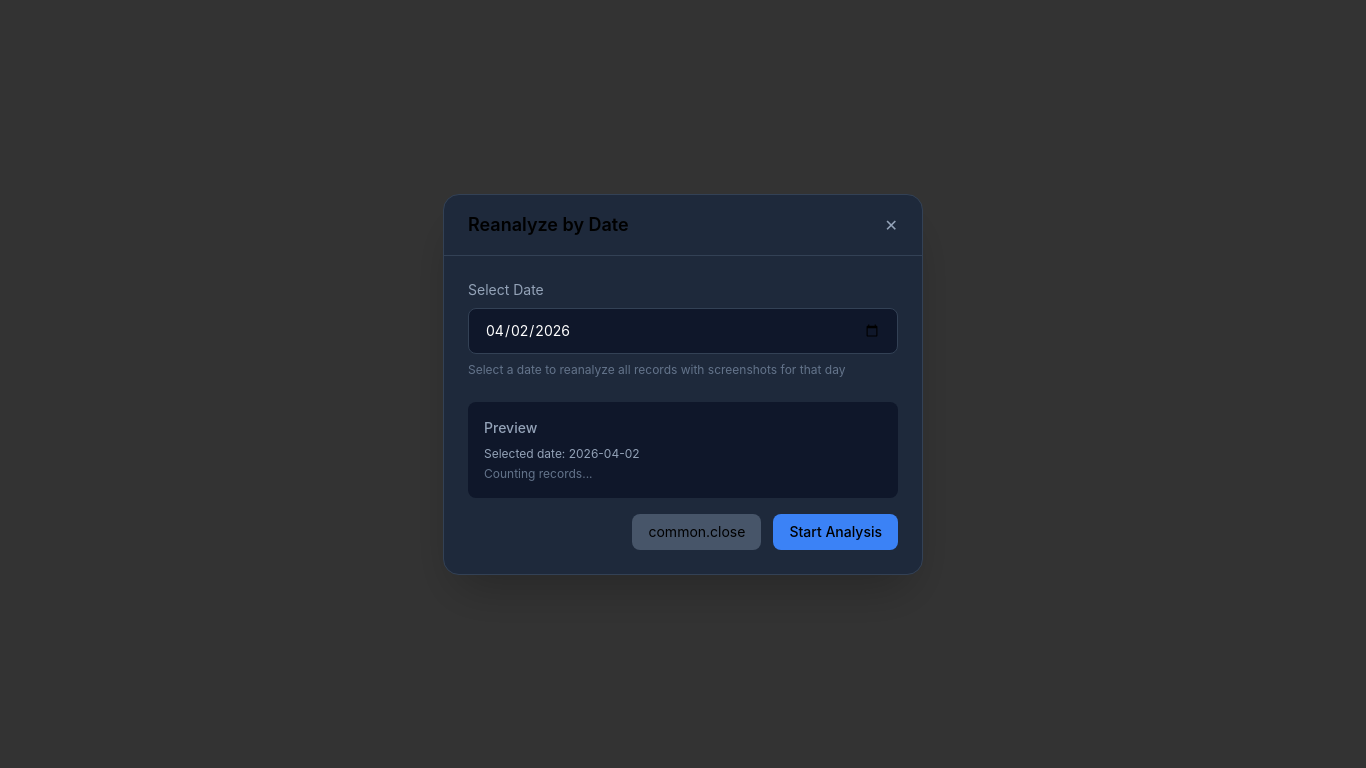
Scenario: ReanalyzeByDateModal › reanalysis action › shows error message on failure
Click the button "Start Analysis".
click(836, 532)  # box [773,514,898,550]
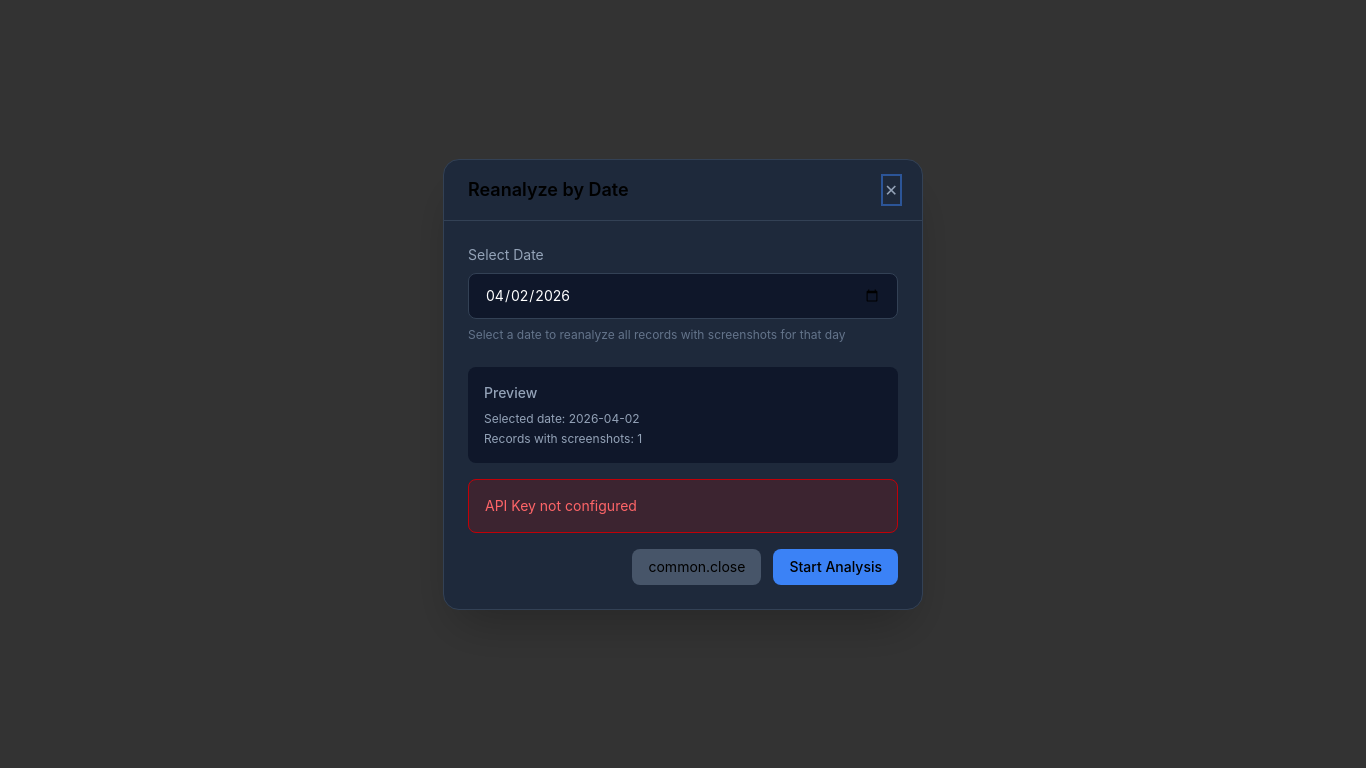
Result: the text "API Key not configured" is shown at [485,496,637,514]
